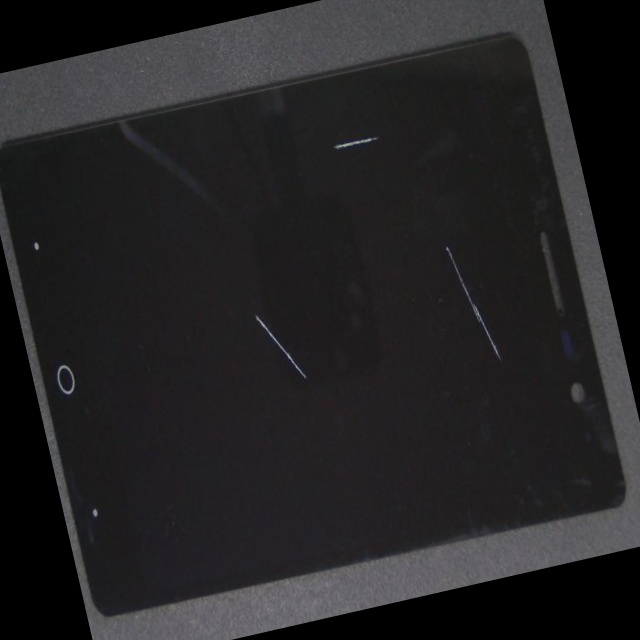scratch: (267, 209, 640, 525), (122, 115, 397, 460), (214, 21, 571, 218)
